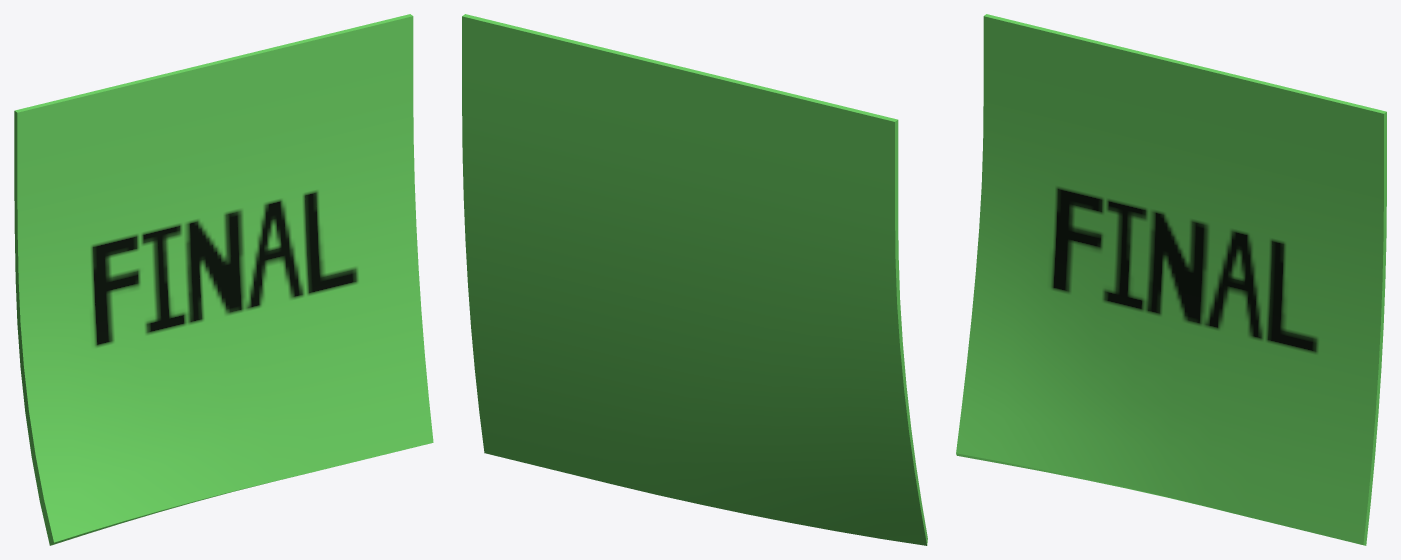
Rendered from SM_Note_Final_01.fbx.
The picture shows the model from 3 angles, left to right: view 1: azimuth 30°, elevation 25°; view 2: azimuth 150°, elevation 25°; view 3: azimuth 330°, elevation 25°; orthographic projection. The views are drawn at different scales.
Visible parts, largest first — view 1: SM_Note_Final_01; view 2: SM_Note_Final_01; view 3: SM_Note_Final_01.
Part boxes in pixels (x1,y1,x2,y2): SM_Note_Final_01: (14, 14, 433, 545); SM_Note_Final_01: (462, 14, 927, 545); SM_Note_Final_01: (956, 14, 1386, 545).
Size of the model in its own units: 50.27 by 50.14 by 7.65.
